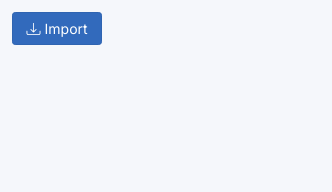
Test: SalesImportDropdown › renders one Import toggle and shows the sources when opened
What coordinates should you click on to do the following:
click the button with test id "t4-import-dropdown-btn"
I would click on:
 (57, 28)
Its box is [12,12,102,45].
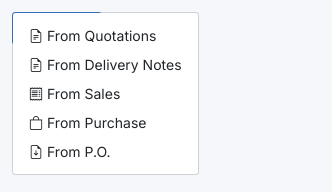
Now the button with test id "t4-import-from-sales-btn" is shown, box [29,85,120,102]
Now the button with test id "t4-import-from-purchase-btn" is shown, box [29,114,146,131]
